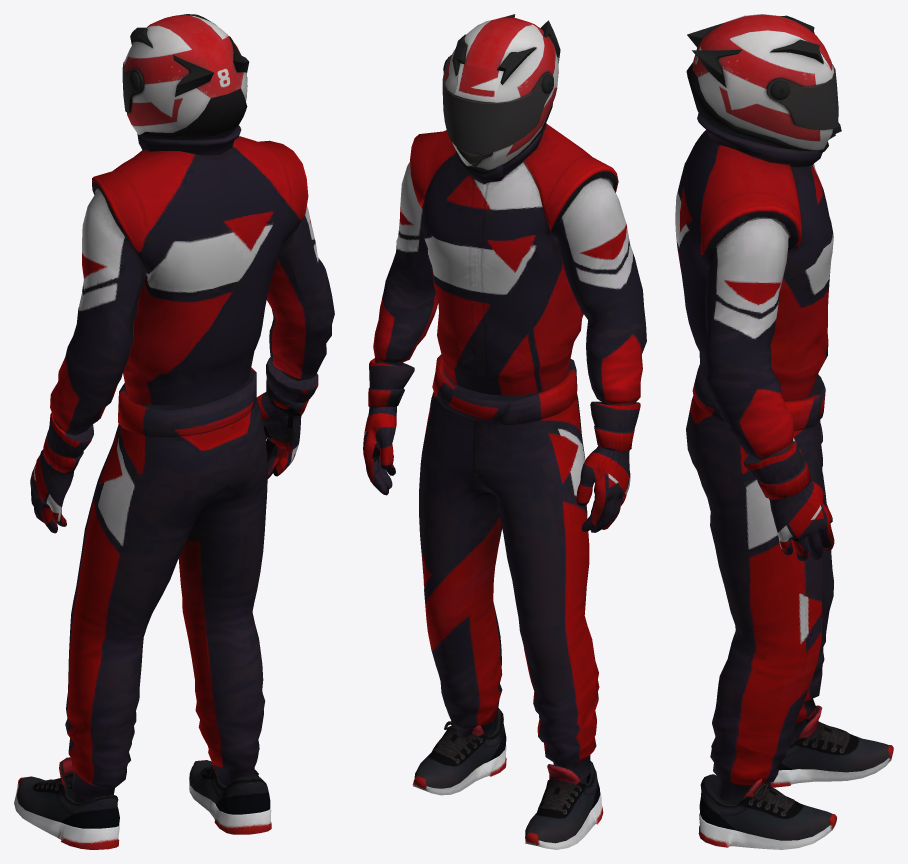
3 renders of one model, left to right at view 1: azimuth 30°, elevation 25°; view 2: azimuth 150°, elevation 25°; view 3: azimuth 270°, elevation 25°, orthographic. The views are drawn at different scales.
Parts seen in each view (by area): view 1: mesh_495_495.nr, mesh_496_496.nr, mesh_499_499.nr, mesh_497_497.nr, mesh_883_883.nr.001, mesh_883_883.nr.012; view 2: mesh_495_495.nr, mesh_496_496.nr, mesh_499_499.nr, mesh_497_497.nr, mesh_883_883.nr.012, mesh_883_883.nr.001; view 3: mesh_495_495.nr, mesh_496_496.nr, mesh_499_499.nr, mesh_883_883.nr.012, mesh_497_497.nr, mesh_883_883.nr.001.
Boxes of the visible parts, left/top/right/bottom form: mesh_495_495.nr: left=50, top=125, right=334, bottom=435; mesh_496_496.nr: left=65, top=367, right=267, bottom=803; mesh_499_499.nr: left=122, top=14, right=249, bottom=140; mesh_497_497.nr: left=30, top=357, right=318, bottom=533; mesh_883_883.nr.001: left=14, top=757, right=119, bottom=849; mesh_883_883.nr.012: left=189, top=760, right=271, bottom=834; mesh_495_495.nr: left=373, top=123, right=646, bottom=405; mesh_496_496.nr: left=419, top=354, right=599, bottom=784; mesh_499_499.nr: left=442, top=14, right=560, bottom=174; mesh_497_497.nr: left=363, top=358, right=640, bottom=532; mesh_883_883.nr.012: left=412, top=708, right=506, bottom=795; mesh_883_883.nr.001: left=525, top=761, right=603, bottom=849; mesh_495_495.nr: left=675, top=113, right=833, bottom=459; mesh_496_496.nr: left=686, top=364, right=833, bottom=802; mesh_499_499.nr: left=686, top=14, right=841, bottom=152; mesh_883_883.nr.012: left=698, top=774, right=836, bottom=849; mesh_497_497.nr: left=743, top=423, right=834, bottom=560; mesh_883_883.nr.001: left=770, top=705, right=893, bottom=787.
Size of the model in its own units: 337 by 966 by 239.
